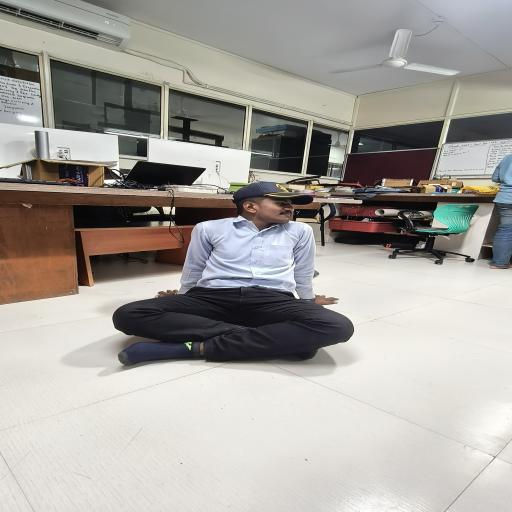survivor: (111, 182, 355, 366), (489, 153, 512, 269)
